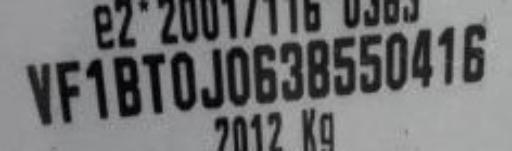letter: (20, 58, 62, 129), (138, 47, 178, 118), (164, 45, 204, 114), (80, 54, 118, 125), (195, 45, 231, 114), (111, 51, 147, 120), (52, 54, 86, 127), (275, 36, 309, 107), (325, 32, 361, 99), (406, 23, 440, 92), (247, 38, 283, 103), (458, 21, 490, 88), (221, 43, 253, 110), (356, 29, 388, 94), (382, 29, 414, 94), (436, 21, 464, 86), (305, 37, 331, 98)
